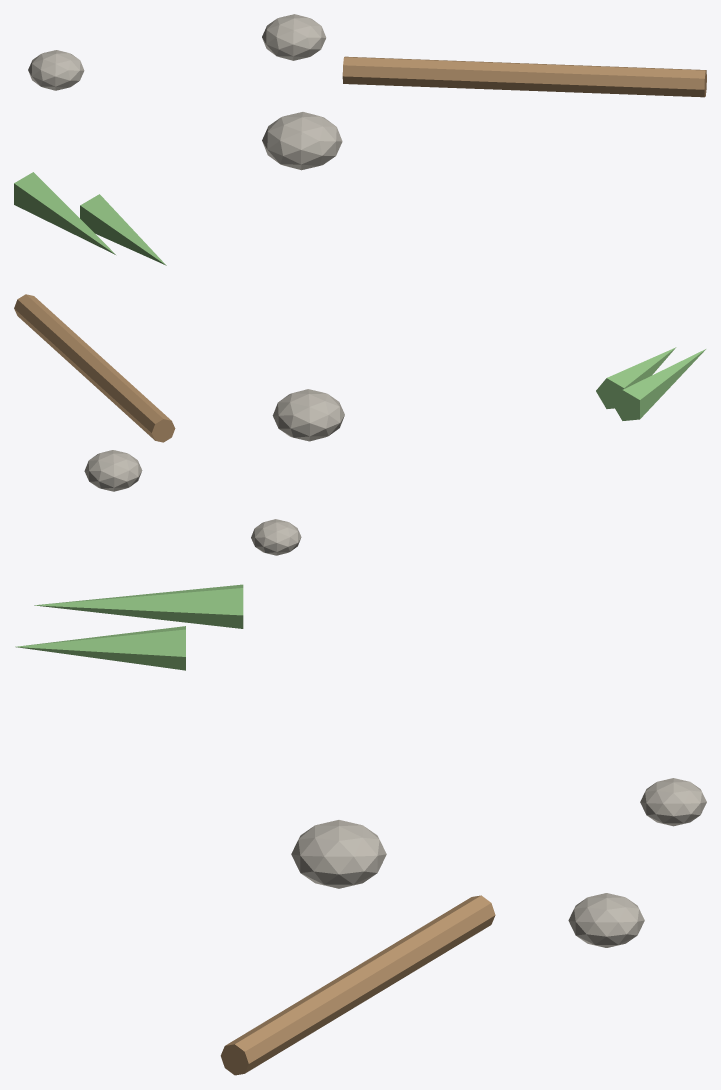
The model's file is env_mixed_scatter_v1.glb.
3 renders of one model, top to bottom at view 1: azimuth 30°, elevation 25°; view 2: azimuth 150°, elevation 25°; view 3: azimuth 270°, elevation 25°, orthographic. The views are drawn at different scales.
Visible parts, largest first — view 1: scatter_twig, scatter_pebble_0, scatter_grass_0, scatter_pebble_1, scatter_grass_1, scatter_pebble_2; view 2: scatter_twig, scatter_pebble_0, scatter_grass_0, scatter_pebble_1, scatter_grass_1, scatter_pebble_2; view 3: scatter_twig, scatter_pebble_0, scatter_grass_0, scatter_grass_1, scatter_pebble_1, scatter_pebble_2.
Boxes of the visible parts, <box> form: scatter_twig: <box>342,56,706,97</box>; scatter_pebble_0: <box>262,112,342,170</box>; scatter_grass_0: <box>14,172,115,254</box>; scatter_pebble_1: <box>262,14,326,60</box>; scatter_grass_1: <box>80,194,166,265</box>; scatter_pebble_2: <box>28,50,84,90</box>; scatter_twig: <box>14,294,175,442</box>; scatter_pebble_0: <box>272,389,344,441</box>; scatter_grass_0: <box>612,349,705,420</box>; scatter_pebble_1: <box>84,450,142,491</box>; scatter_grass_1: <box>596,347,676,408</box>; scatter_pebble_2: <box>251,519,301,555</box>; scatter_twig: <box>220,895,495,1075</box>; scatter_pebble_0: <box>291,820,386,888</box>; scatter_grass_0: <box>34,584,243,628</box>; scatter_grass_1: <box>15,626,185,670</box>; scatter_pebble_1: <box>568,893,644,947</box>; scatter_pebble_2: <box>640,778,706,826</box>.
Bounding box in the file's own units: 0.9949 × 0.1338 × 0.725.
